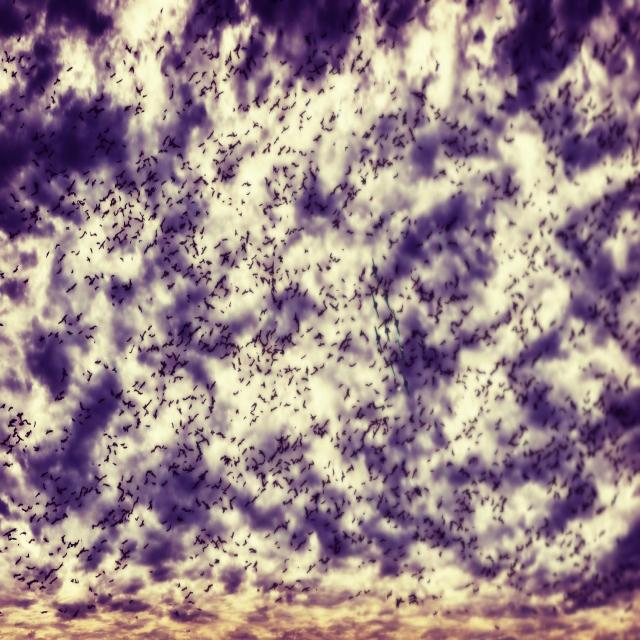airplane: (370, 290, 380, 318), (386, 353, 396, 378), (373, 327, 382, 353), (370, 257, 379, 282), (401, 374, 411, 396), (382, 286, 390, 308), (384, 321, 392, 343), (393, 312, 400, 336), (396, 342, 404, 360)
